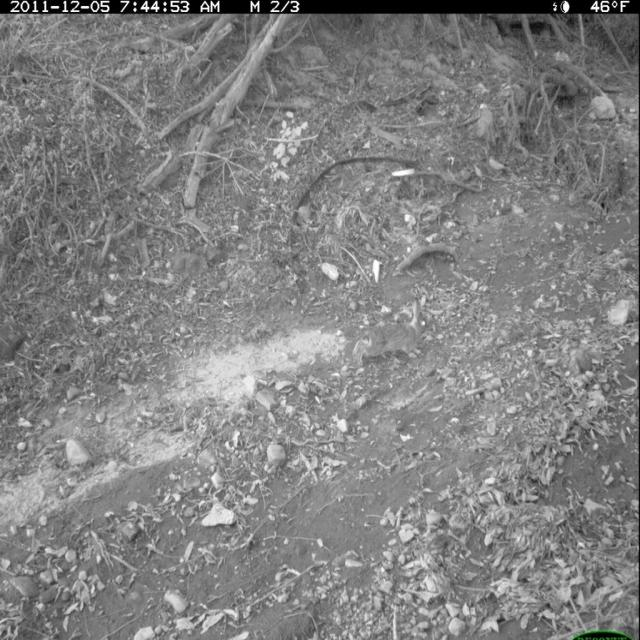rabbit: (352, 295, 433, 371)
